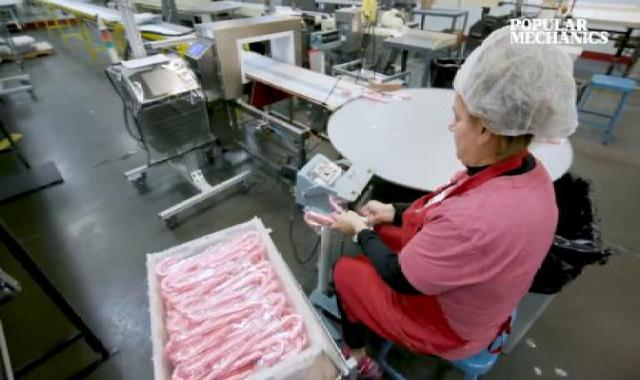hairnet: (456, 22, 583, 147)
